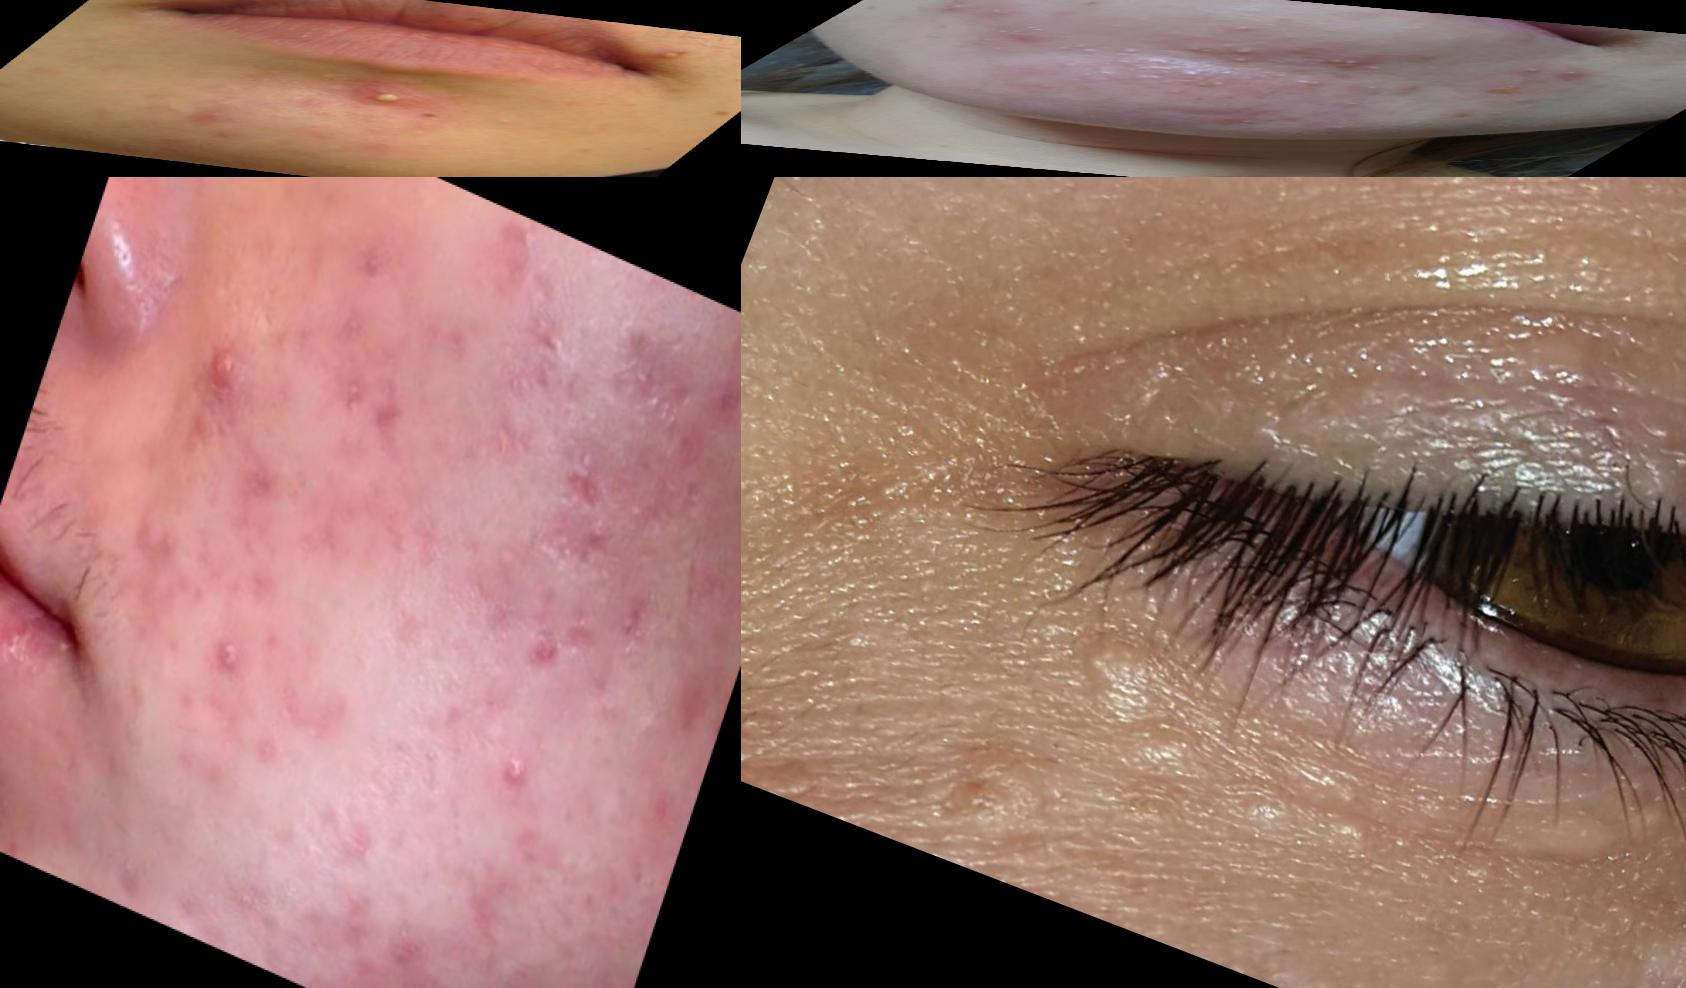acne_scars: (322, 358, 431, 467), (524, 421, 630, 529), (506, 602, 582, 683), (219, 440, 294, 518)
papular: (175, 312, 272, 418), (562, 506, 637, 589), (698, 343, 742, 443), (161, 100, 259, 132), (924, 1, 993, 15)
purulent: (479, 729, 556, 822), (315, 79, 441, 116), (198, 626, 255, 690), (629, 44, 720, 71), (1210, 22, 1270, 36), (1199, 56, 1262, 69), (1099, 46, 1159, 56), (1314, 122, 1364, 134), (1176, 45, 1226, 55), (1218, 47, 1270, 56), (1508, 66, 1553, 76), (1224, 118, 1266, 128), (1552, 68, 1591, 78)
sebo-crystan-conglo: (1098, 53, 1247, 79), (1116, 71, 1249, 91), (1269, 54, 1401, 73), (970, 21, 1072, 42), (1472, 82, 1544, 98), (1271, 76, 1343, 91)
syringoma: (948, 560, 1536, 954), (1533, 730, 1686, 954), (1511, 873, 1686, 988)
whitehead: (315, 156, 379, 178), (396, 116, 461, 136), (1059, 71, 1128, 86), (1045, 42, 1112, 56), (473, 116, 529, 133), (394, 131, 442, 145), (1043, 60, 1096, 71), (1343, 84, 1394, 94), (1330, 100, 1378, 109), (1153, 87, 1199, 96), (970, 36, 1001, 45), (916, 32, 951, 39), (986, 46, 1010, 52)
